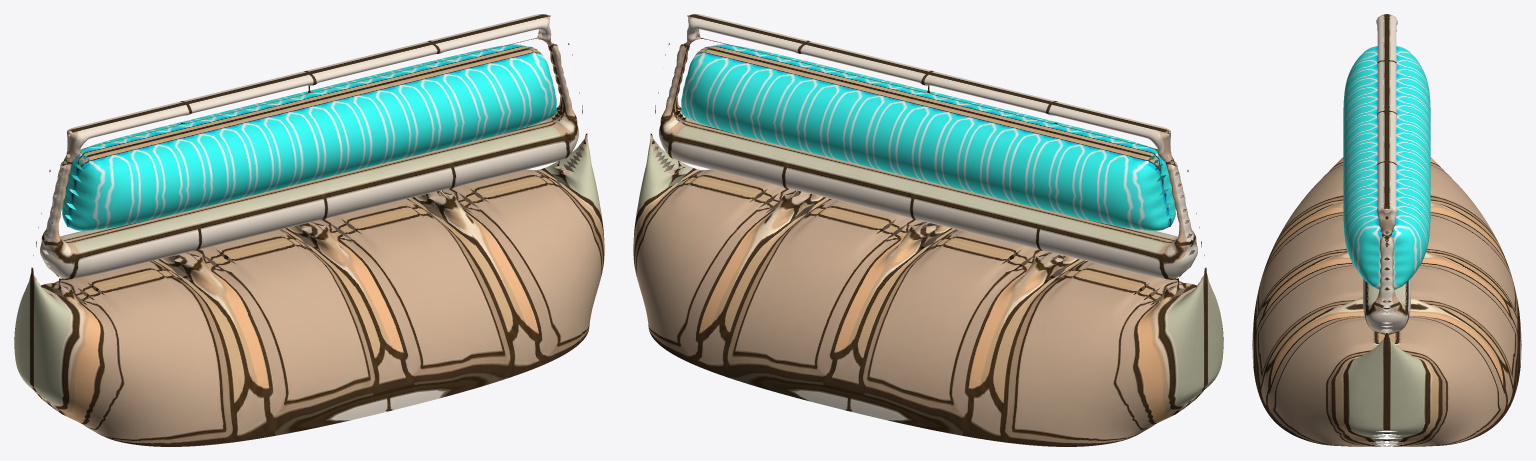
The model's file is upper_transfer_station.glb.
The picture shows the model from 3 angles, left to right: view 1: azimuth 30°, elevation 25°; view 2: azimuth 150°, elevation 25°; view 3: azimuth 270°, elevation 25°; orthographic projection. The views are drawn at different scales.
Parts seen in each view (by area): view 1: upper_transfer_station; view 2: upper_transfer_station; view 3: upper_transfer_station.
Boxes of the visible parts, x1=… form: upper_transfer_station: x1=14, y1=14, x2=604, y2=446; upper_transfer_station: x1=633, y1=14, x2=1223, y2=446; upper_transfer_station: x1=1252, y1=14, x2=1521, y2=446.
Bounding box in the file's own units: 0.9896 × 0.4762 × 0.4945.
Materials: 1 (1 with a texture image).
